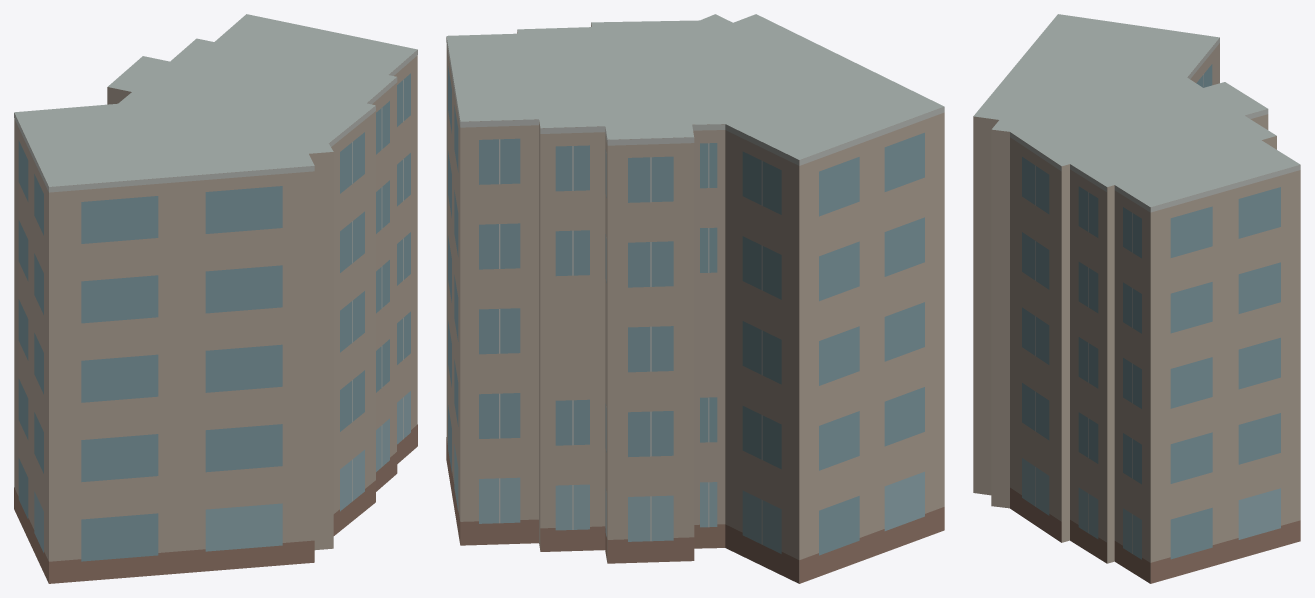
Rendered from survey-upis-32581715.glb.
3 views of the same model, side by side, from view 1: azimuth 30°, elevation 25°; view 2: azimuth 150°, elevation 25°; view 3: azimuth 270°, elevation 25° (orthographic). The views are drawn at different scales.
Parts seen in each view (by area): view 1: survey-upis-32581715.tmp; view 2: survey-upis-32581715.tmp; view 3: survey-upis-32581715.tmp.
Boxes of the visible parts, x1,y1,x2,y2 form: survey-upis-32581715.tmp: (14,14,417,583); survey-upis-32581715.tmp: (446,14,944,583); survey-upis-32581715.tmp: (973,14,1300,583).
Size of the model in its own units: 19.24 by 17.46 by 13.77.
